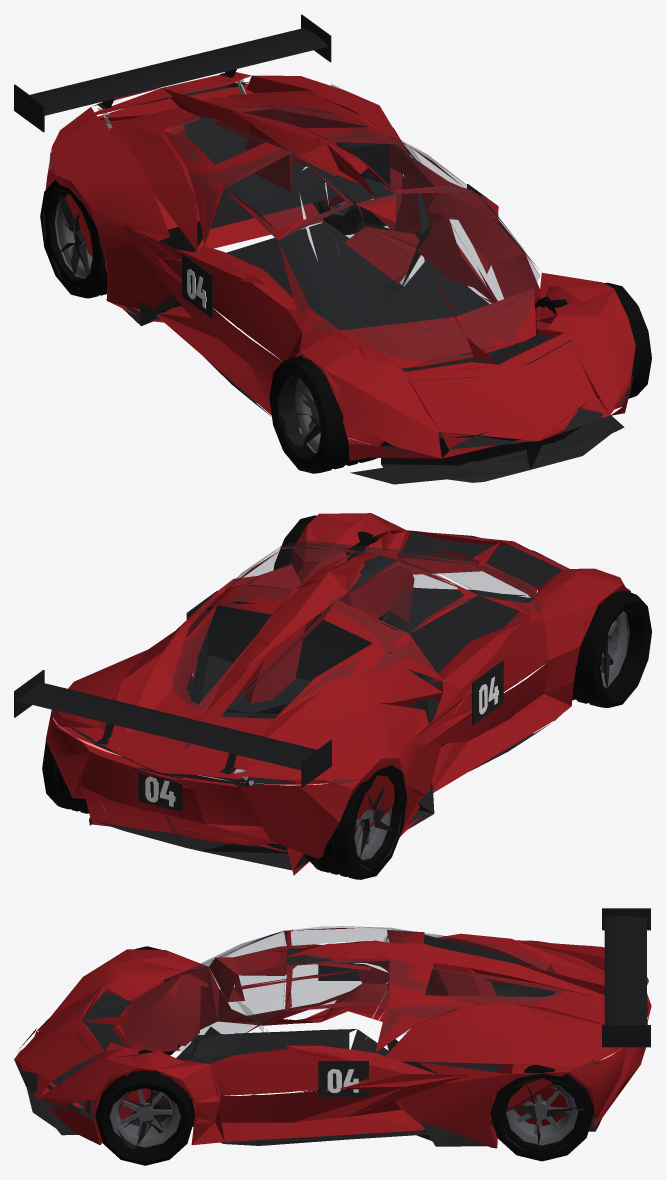
File: vanta_lod2.glb
3 views of the same model, one above another, from view 1: azimuth 30°, elevation 25°; view 2: azimuth 150°, elevation 25°; view 3: azimuth 270°, elevation 25° (orthographic). The views are drawn at different scales.
Visible parts, largest first — view 1: Body, Wheel_FR, Wheel_RR, Wheel_FL, Wheel_RL; view 2: Body, Wheel_FR, Wheel_RR, Wheel_RL, Wheel_FL; view 3: Body, Wheel_FL, Wheel_RL.
Part boxes in pixels (<box>): Body: <box>14,14,635,484</box>; Wheel_FR: <box>269,355,387,473</box>; Wheel_RR: <box>40,179,107,298</box>; Wheel_FL: <box>534,282,651,398</box>; Wheel_RL: <box>317,174,403,235</box>; Body: <box>14,513,630,875</box>; Wheel_FR: <box>572,590,651,707</box>; Wheel_RR: <box>305,765,406,879</box>; Wheel_RL: <box>42,740,89,813</box>; Wheel_FL: <box>273,515,388,630</box>; Body: <box>14,908,651,1153</box>; Wheel_FL: <box>95,1049,194,1165</box>; Wheel_RL: <box>490,1065,593,1161</box>.
Bounding box in the file's own units: 2.25 × 1.25 × 4.55.
Materials: 6 (1 with a texture image).
